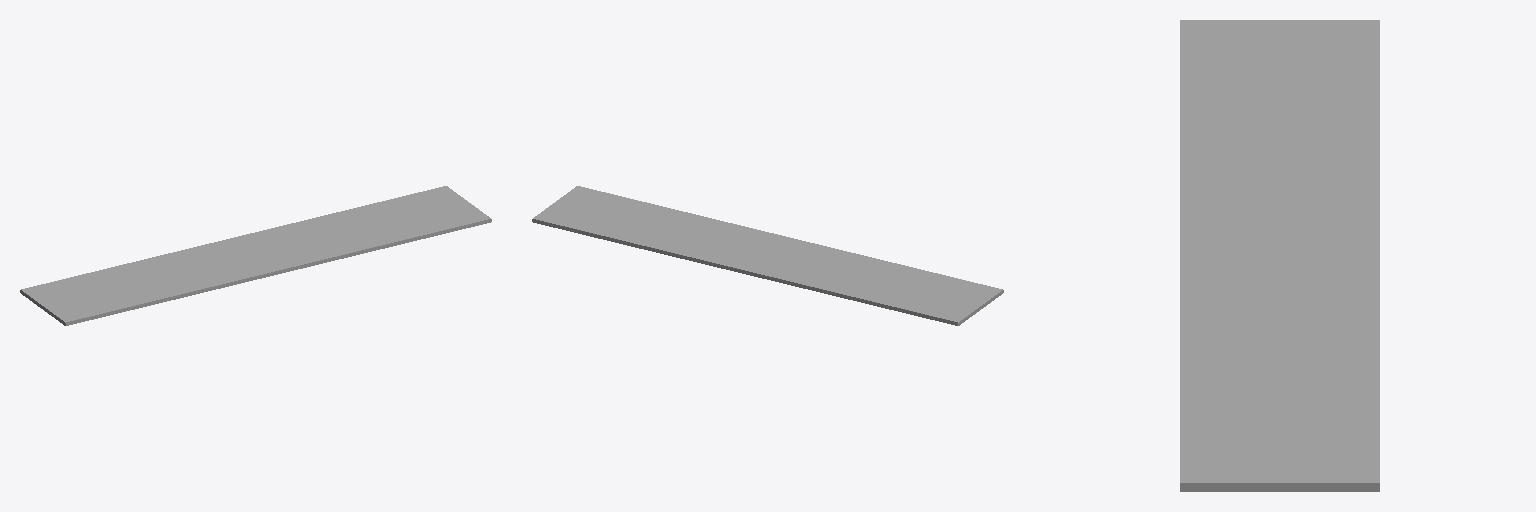
robot.urdf — kuka_iiwa:
<?xml version="1.0" ?>
<!--Autogenerated by "taco/models/sdf2urdf" converter from "../kuka_iiwa/kuka_iiwa.sdf"-->
<robot name="kuka_iiwa">
    <link name="base_link">
        <inertial>
            <origin xyz="0 0 0.14" rpy="0 -0 0" />
            <mass value="4" />
            <inertia ixx="0.4" iyy="0.4" izz="0.4" ixy="0" ixz="0" iyz="0" />
        </inertial>
        <visual>
            <origin xyz="0 0 0" rpy="0 -0 0" />
            <geometry>
                <mesh filename="../../../Model/meshes_iiwa/base.obj" scale="1 1 1" />
            </geometry>
        </visual>
        <!-- <collision>
            <origin xyz="0 0 0" rpy="0 -0 0" />
            <geometry>
                <mesh filename="../../../Model/meshes_iiwa/base.obj" scale="1 1 1" />
            </geometry>
        </collision> -->
    </link>
    <link name="link0">
        <inertial>
            <origin xyz="0 0 0.14" rpy="0 -0 0" />
            <mass value="4" />
            <inertia ixx="0.4" iyy="0.4" izz="0.4" ixy="0" ixz="0" iyz="0" />
        </inertial>
        <visual>
            <origin xyz="0 0 0" rpy="0 -0 0" />
            <geometry>
                <mesh filename="../../../Model/meshes_iiwa/link0.obj" scale="1 1 1" />
            </geometry>
        </visual>
        <!-- <collision>
            <origin xyz="0 0 0" rpy="0 -0 0" />
            <geometry>
                <mesh filename="../../../Model/meshes_iiwa/link0.obj" scale="1 1 1" />
            </geometry>
        </collision> -->
    </link>
    <link name="link1">
        <inertial>
            <origin xyz="0 0 0.14" rpy="0 -0 0" />
            <mass value="4" />
            <inertia ixx="0.4" iyy="0.4" izz="0.4" ixy="0" ixz="0" iyz="0" />
        </inertial>
        <visual>
            <origin xyz="0 0 0" rpy="0 -0 0" />
            <geometry>
                <mesh filename="../../../Model/meshes_iiwa/link1.obj" scale="1 1 1" />
            </geometry>
        </visual>
        <!-- <collision>
            <origin xyz="0 0 0" rpy="0 -0 0" />
            <geometry>
                <mesh filename="../../../Model/meshes_iiwa/link1.obj" scale="1 1 1" />
            </geometry>
        </collision> -->
    </link>
    <link name="link2">
        <inertial>
            <origin xyz="0 0 0.14" rpy="0 -0 0" />
            <mass value="4" />
            <inertia ixx="0.4" iyy="0.4" izz="0.4" ixy="0" ixz="0" iyz="0" />
        </inertial>
        <visual>
            <origin xyz="0 0 0" rpy="0 -0 0" />
            <geometry>
                <mesh filename="../../../Model/meshes_iiwa/link2.obj" scale="1 1 1" />
            </geometry>
        </visual>
        <collision>
            <origin xyz="0 0 0" rpy="0 -0 0" />
            <geometry>
                <mesh filename="../../../Model/meshes_iiwa/link2.obj" scale="1 1 1" />
            </geometry>
        </collision>
    </link>
    <link name="link3">
        <inertial>
            <origin xyz="0 0 0.14" rpy="0 0 0" />
            <mass value="4" />
            <inertia ixx="0.4" iyy="0.4" izz="0.4" ixy="0" ixz="0" iyz="0" />
        </inertial>
        <visual>
            <origin xyz="0 0 0" rpy="0 0 3.1415926535897" />
            <geometry>
                <mesh filename="../../../Model/meshes_iiwa/link3.obj" scale="1 1 1" />
            </geometry>
        </visual>
        <collision>
            <origin xyz="0 0 0" rpy="0 -0 0" />
            <geometry>
                <mesh filename="../../../Model/meshes_iiwa/link3.obj" scale="1 1 1" />
            </geometry>
        </collision>
    </link>
    <link name="link4">
        <inertial>
            <origin xyz="0 0 0.14" rpy="0 0 0" />
            <mass value="3" />
            <inertia ixx="0.3" iyy="0.3" izz="0.3" ixy="0" ixz="0" iyz="0" />
        </inertial>
        <visual>
            <origin xyz="0 0 0" rpy="0 0 0" />
            <geometry>
                <mesh filename="../../../Model/meshes_iiwa/link4.obj" scale="1 1 1" />
            </geometry>
        </visual>
        <!-- <collision>
            <origin xyz="0 0 0" rpy="0 -0 0" />
            <geometry>
                <mesh filename="../../../Model/meshes_iiwa/link4.obj" scale="1 1 1" />
            </geometry>
        </collision> -->
    </link>
    <link name="link5">
        <inertial>
            <origin xyz="0 0 0.14" rpy="0 0 0" />
            <mass value="2" />
            <inertia ixx="0.2" iyy="0.2" izz="0.2" ixy="0" ixz="0" iyz="0" />
        </inertial>
        <visual>
            <origin xyz="0 -0.06 0" rpy="0 0 0" />
            <geometry>
                <mesh filename="../../../Model/meshes_iiwa/link5.obj" scale="1 1 1" />
            </geometry>
        </visual>
        <!-- <collision>
            <origin xyz="0 -0.06 0" rpy="0 -0 0" />
            <geometry>
                <mesh filename="../../../Model/meshes_iiwa/link5.obj" scale="1 1 1" />
            </geometry>
        </collision> -->
    </link>
    <link name="link6">
        <inertial>
            <origin xyz="0 0 0.03" rpy="0 0 0" />
            <mass value="1" />
            <inertia ixx="0.1" iyy="0.1" izz="0.1" ixy="0" ixz="0" iyz="0" />
        </inertial>
        <visual>
            <origin xyz="0 0 0" rpy="0 0 0" />
            <geometry>
                <mesh filename="../../../Model/meshes_iiwa/link6.obj" scale="1 1 1" />
            </geometry>
        </visual>
        <visual>
            <origin xyz="0 0 0.015" rpy="0 0 0" />
            <geometry>
                <box size="1.2 0.22 0.01 "/>
            </geometry>
        </visual>
        <collision>
            <origin xyz="0 0 0" rpy="0 0 0" />
            <geometry>
                <box size="1.2 0.22 0.01 "/>
            </geometry>
        </collision>
<!--         <collision>
            <origin xyz="0 0 0" rpy="0 0 0" />
            <geometry>
                <mesh filename="../../../Model/meshes_iiwa/link6.obj" scale="1 1 1" />
            </geometry>
        </collision> -->
    </link>
    <joint name="j0" type="revolute">
        <parent link="base_link" />
        <child link="link0" />
        <origin xyz="0.000000 0.000000 0.155767" rpy="0.000000 0.000000 0.000000" />
        <axis xyz="0 0 1" />
        <limit lower="-2.967" upper="2.967" effort="176" velocity="1.7104" />
    </joint>
    <joint name="j1" type="revolute">
        <parent link="link0" />
        <child link="link1" />
        <origin xyz="0.000000 0.000000 0.182500" rpy="0.000000 0.000000 0.000000" />
        <axis xyz="0 1 0" />
        <limit lower="-2.0944" upper="2.0944" effort="176" velocity="1.7104" />
    </joint>
    <joint name="j2" type="revolute">
        <parent link="link1" />
        <child link="link2" />
        <origin xyz="0.000000 0.000000 0.185000" rpy="0.000000 0.000000 0.000000" />
        <axis xyz="0 0 1" />
        <limit lower="-2.967" upper="2.967" effort="110" velocity="1.7453" />
    </joint>
    <joint name="j3" type="revolute">
        <parent link="link2" />
        <child link="link3" />
        <origin xyz="0.000000 0.000000 0.217000" rpy="0.000000 0.000000 3.1415926535897" />
        <axis xyz="0 1 0" />
        <limit lower="-2.0944" upper="2.0944" effort="110" velocity="2.2689" />
    </joint>
    <joint name="j4" type="revolute">
        <parent link="link3" />
        <child link="link4" />
        <origin xyz="0.000000 0.000000 0.186000" rpy="0.000000 0.000000 -3.1415926535897" />
        <axis xyz="0 0 1" />
        <limit lower="-2.967" upper="2.967" effort="110" velocity="2.4434" />
    </joint>
    <joint name="j5" type="revolute">
        <parent link="link4" />
        <child link="link5" />
        <origin xyz="0.000000 0.000000 0.217003" rpy="0.000000 0.000000 0.000000" />
        <axis xyz="0 1 0" />
        <limit lower="-2.0944" upper="2.0944" effort="40" velocity="3.1416" />
    </joint>
    <joint name="j6" type="revolute">
        <parent link="link5" />
        <child link="link6" />
        <origin xyz="0.000000 0.000000 0.081000" rpy="0.000000 0.000000 0.000000" />
        <axis xyz="0 0 1" />
        <limit lower="-3.0543" upper="3.0543" effort="40" velocity="3.1416" />
    </joint>
</robot>

--- What the picture shows (computed from the rendered views, not written in the file) ---
The picture shows the robot from 3 angles, left to right: view 1: azimuth 30°, elevation 25°; view 2: azimuth 150°, elevation 25°; view 3: azimuth 270°, elevation 25°; orthographic projection.
Robot: kuka_iiwa — 8 links, 7 joints (7 revolute); root link base_link; default pose: all joints at 0.
Links seen in each view (by area): view 1: link6; view 2: link6; view 3: link6.
Link boxes in pixels (left/top/right/bottom): link6: left=20, top=186, right=491, bottom=325; link6: left=532, top=186, right=1003, bottom=325; link6: left=1180, top=20, right=1379, bottom=491.
Bounding box of the posed robot: 1.2 × 0.22 × 0.01 m (x, y, z).
Geometry: only primitive shapes (box / cylinder / sphere) drawn; not drawn: 8 mesh visuals (reference in a form the renderer does not follow).